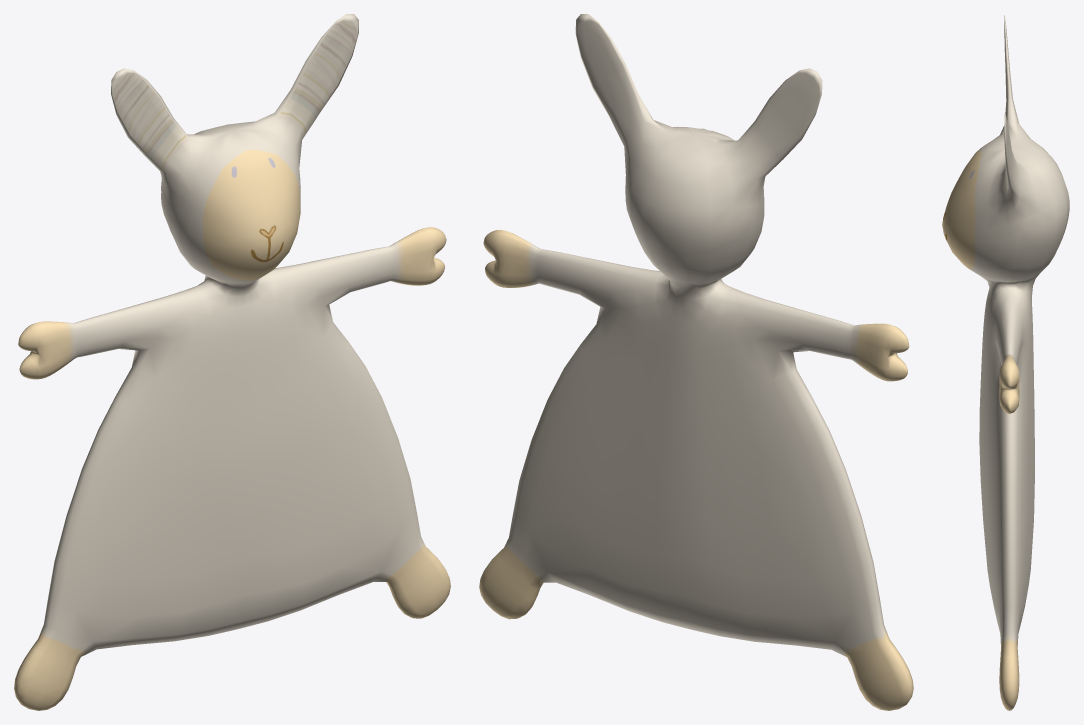
Rendered from Buddy.FBX.
3 views of the same model, side by side, from view 1: azimuth 30°, elevation 25°; view 2: azimuth 150°, elevation 25°; view 3: azimuth 270°, elevation 25° (orthographic). The views are drawn at different scales.
Visible parts, largest first — view 1: Box001; view 2: Box001; view 3: Box001.
Part boxes in pixels (x1,y1,x2,y2): Box001: (14,14,450,710); Box001: (479,14,913,710); Box001: (942,15,1069,710).
Bounding box in the file's own units: 117 × 160 × 33.05.
